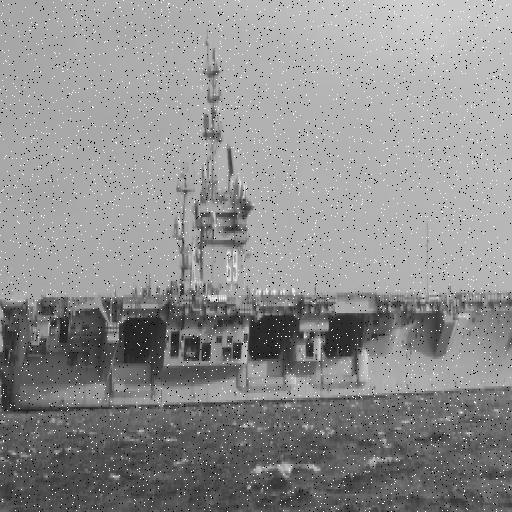Portanaves: (1, 20, 512, 429)
